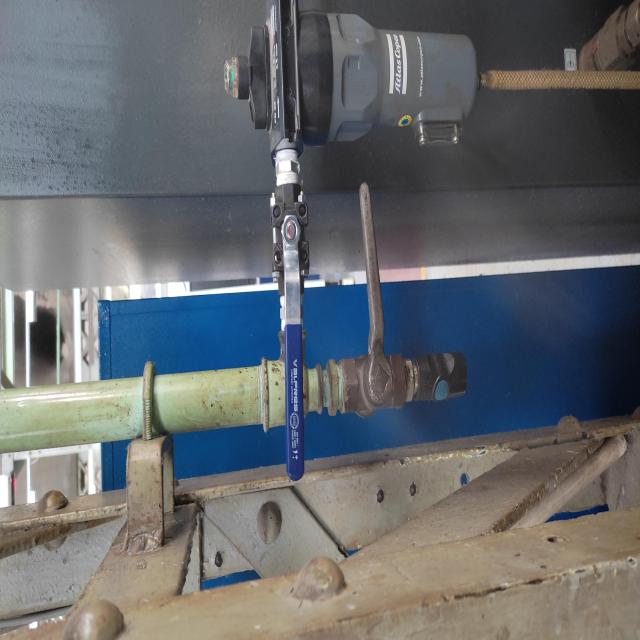closed_valve: (338, 172, 409, 422)
opened_valve: (270, 180, 312, 482)
